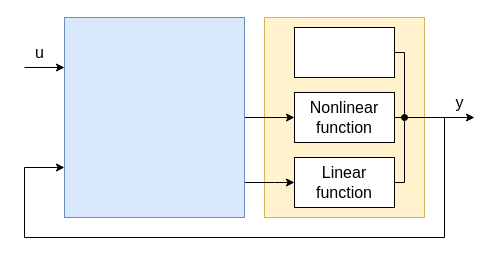
The diagram is 500 pixels wide and 263 high, and some of its shapes have lost their labels. The shapes that lost their labels are listed below. From the top down, each one's box as (x1, y1, x2, y2) in pixels, then its label:
(294, 26, 394, 78): Offset
(64, 16, 244, 218): Regressors u(t), u(t-1), y(t-), ...
